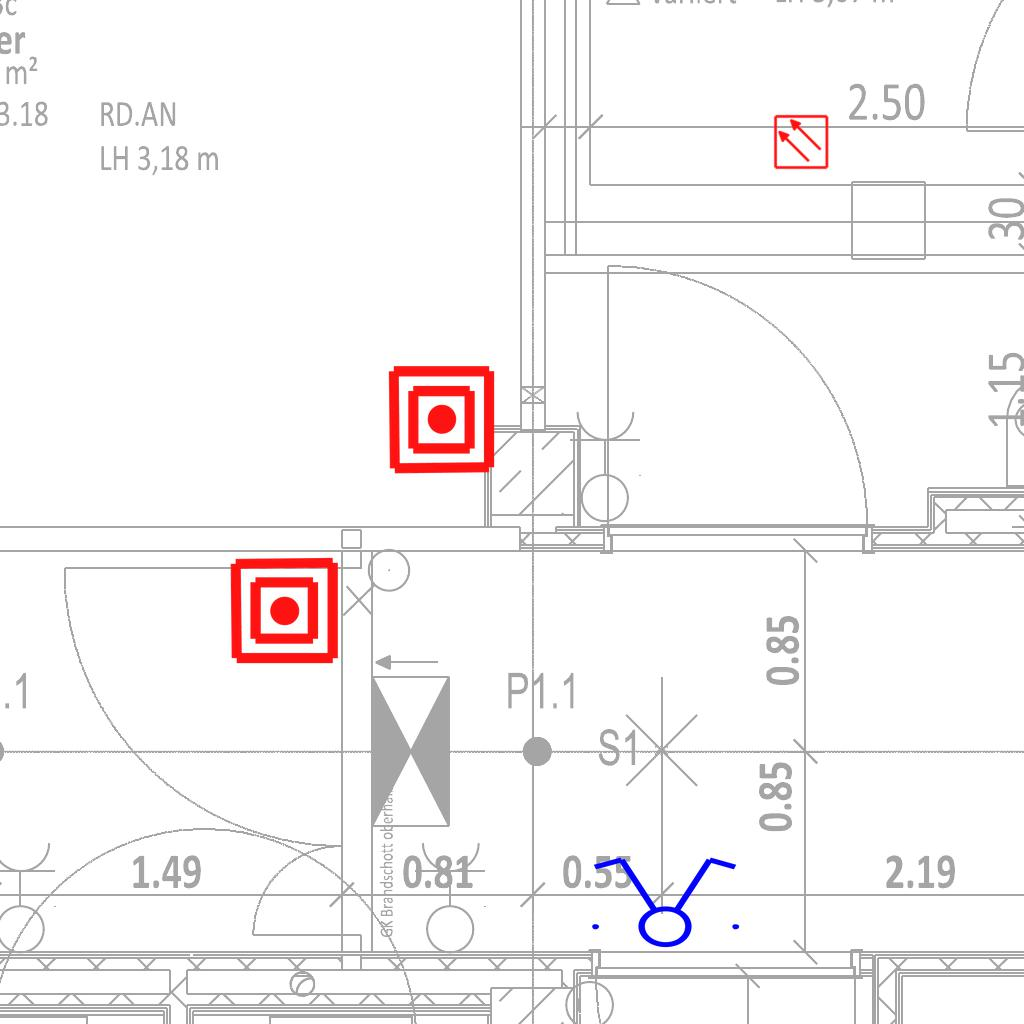NAM-Nichtautomatischer_Melder: (228, 554, 341, 667), (385, 363, 498, 476)
RMO_Rauchmelder_optischer: (773, 114, 829, 170)
Serienschalter: (580, 853, 748, 949)
